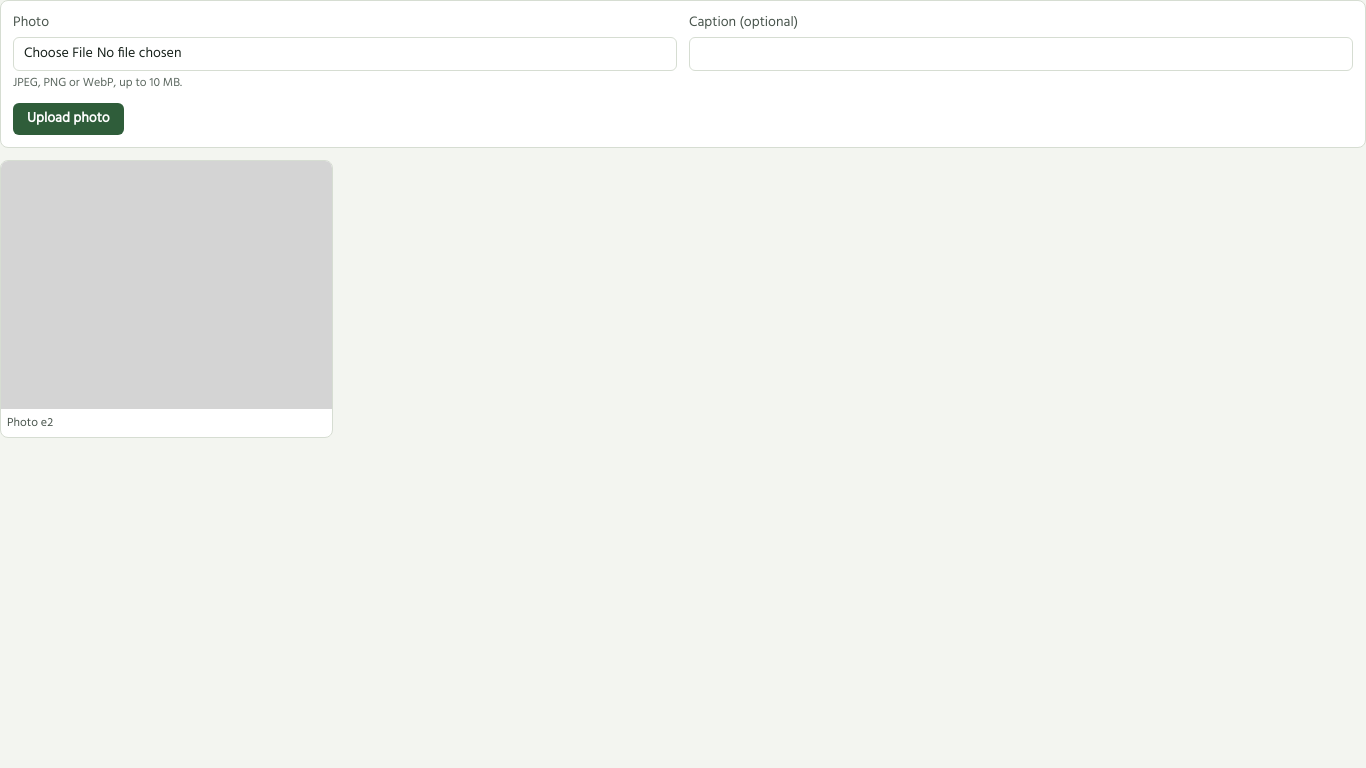
Test: EvidenceGallery › managers can remove anyone's photo
Click the button with aria-label "Open photo: Photo e2" at (166, 299), box [0,160,332,438]
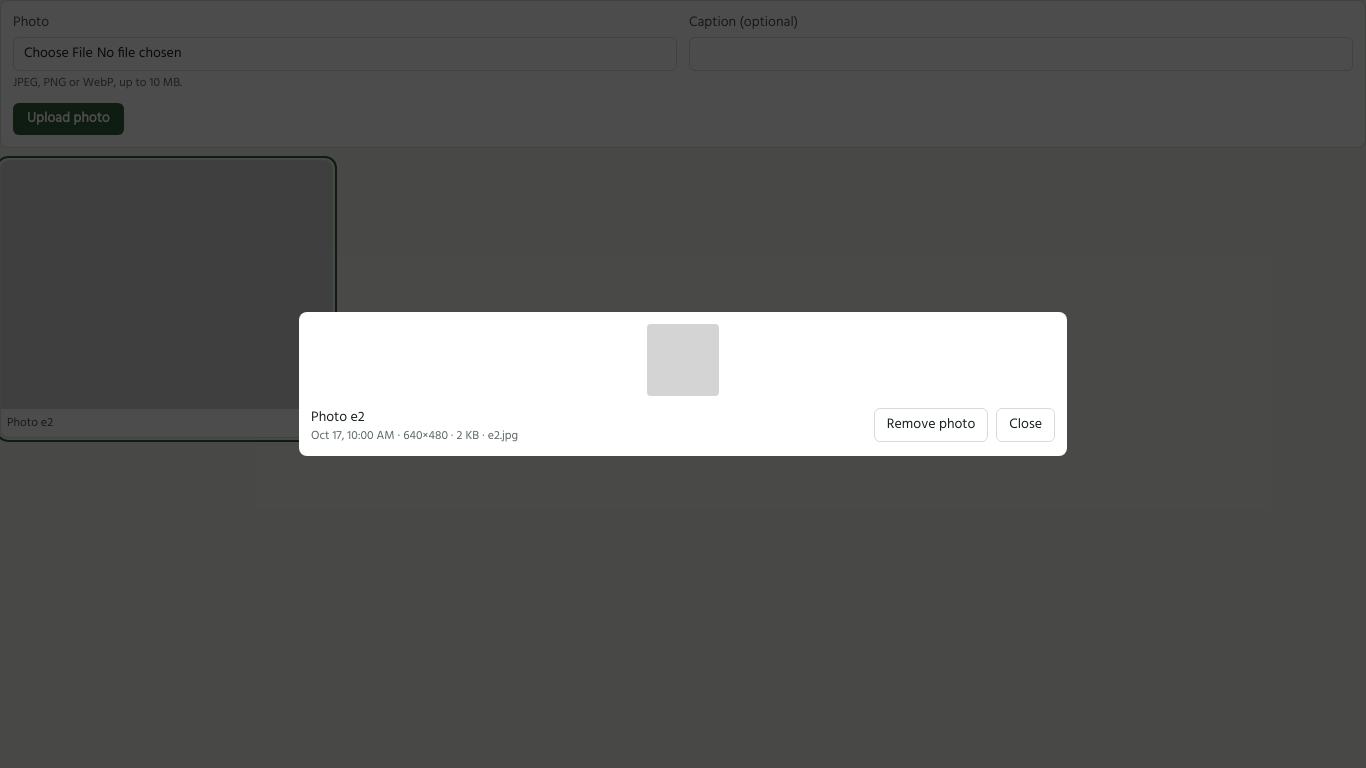
Expected: the button "Remove photo" is shown, [874,408,988,442]
